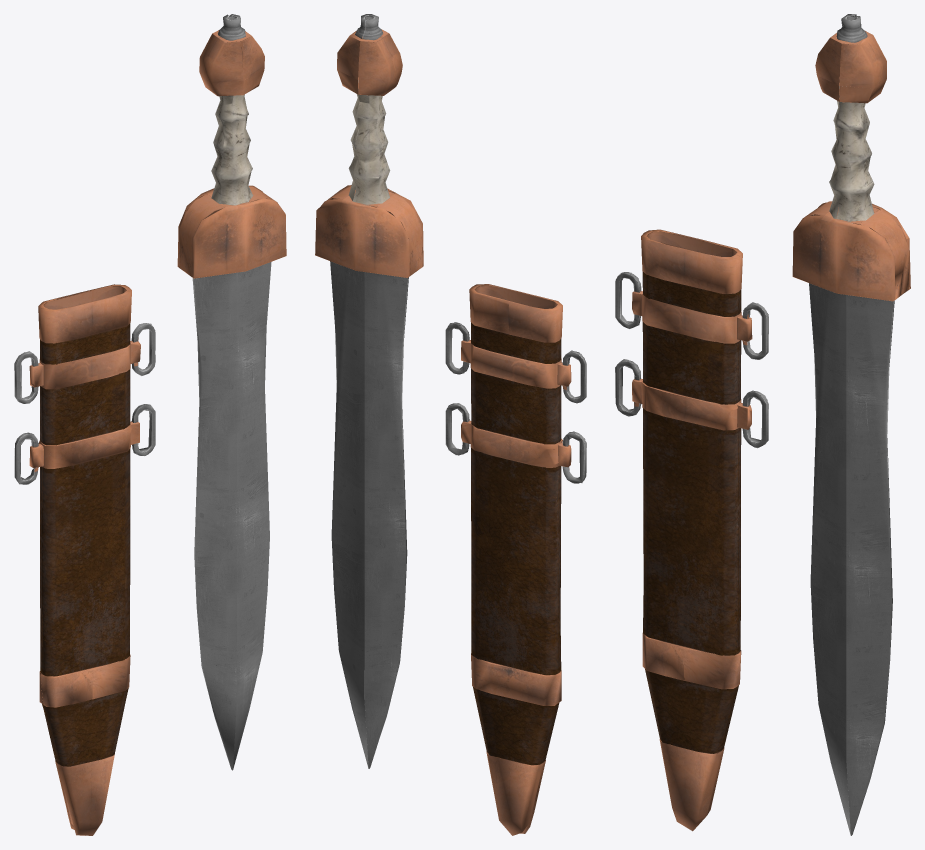
Rendered from gladius_direraven.glb.
The picture shows the model from 3 angles, left to right: view 1: azimuth 30°, elevation 25°; view 2: azimuth 150°, elevation 25°; view 3: azimuth 330°, elevation 25°; orthographic projection. The views are drawn at different scales.
Parts seen in each view (by area): view 1: defaultMaterial; view 2: defaultMaterial; view 3: defaultMaterial.
Boxes of the visible parts, bbox=[...] form: defaultMaterial: bbox=[14, 14, 286, 835]; defaultMaterial: bbox=[315, 14, 586, 835]; defaultMaterial: bbox=[615, 14, 910, 835].
Size of the model in its own units: 0.7045 by 2 by 0.1273.
Materials: 1 (1 with a texture image).
